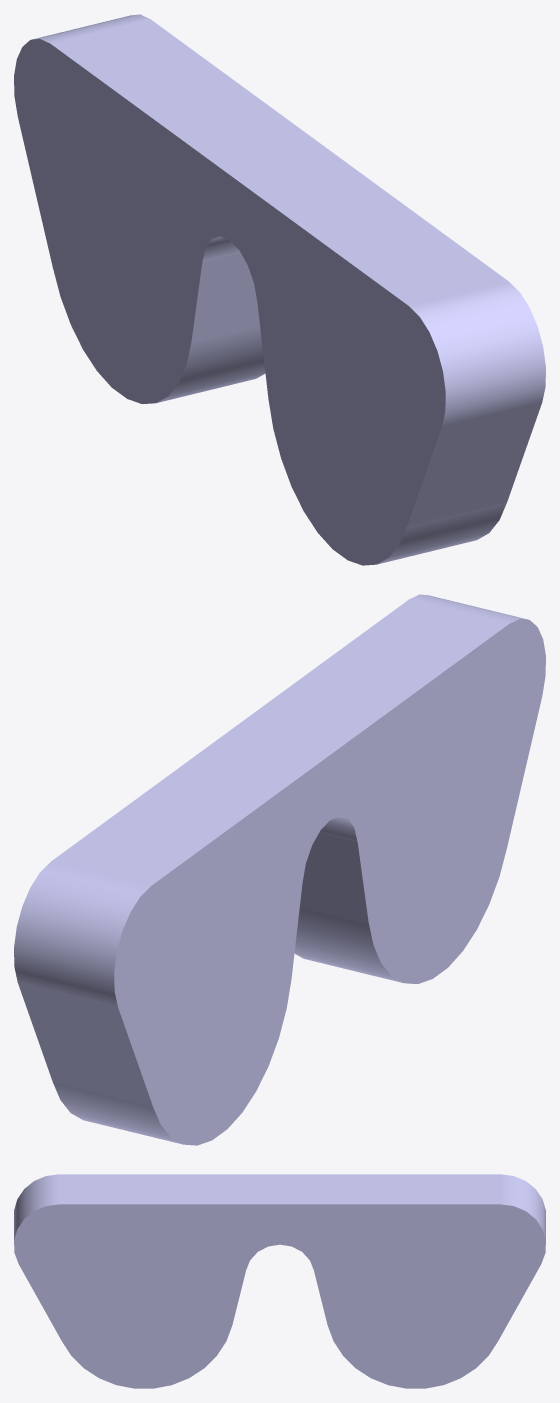
Rendered from 11 Google lens.fbx.
The picture shows the model from 3 angles, top to bottom: view 1: azimuth 30°, elevation 25°; view 2: azimuth 150°, elevation 25°; view 3: azimuth 270°, elevation 25°; orthographic projection. The views are drawn at different scales.
Parts seen in each view (by area): view 1: PartBody; view 2: PartBody; view 3: PartBody.
Boxes of the visible parts, bbox=[...] form: PartBody: bbox=[14, 14, 545, 565]; PartBody: bbox=[14, 594, 545, 1145]; PartBody: bbox=[14, 1174, 545, 1388].
Bounding box in the file's own units: 0.7874 × 2.24 × 5.87.
